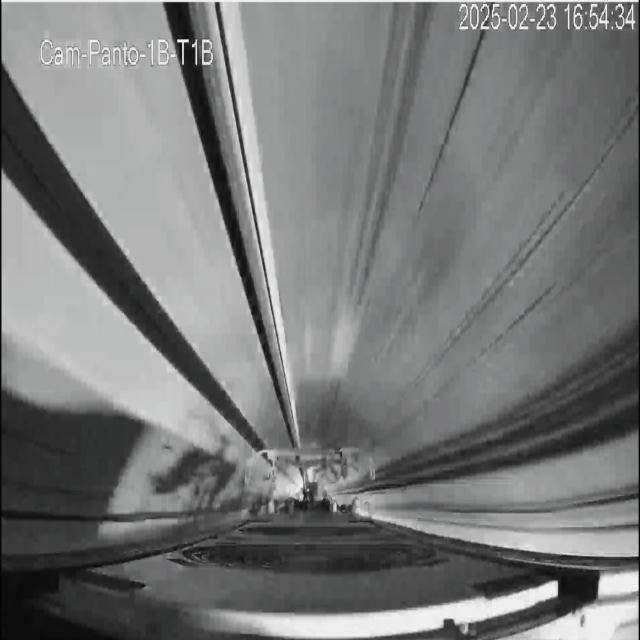Camera Stamp: (35, 30, 217, 70)
Date Stamp: (459, 3, 636, 33)
